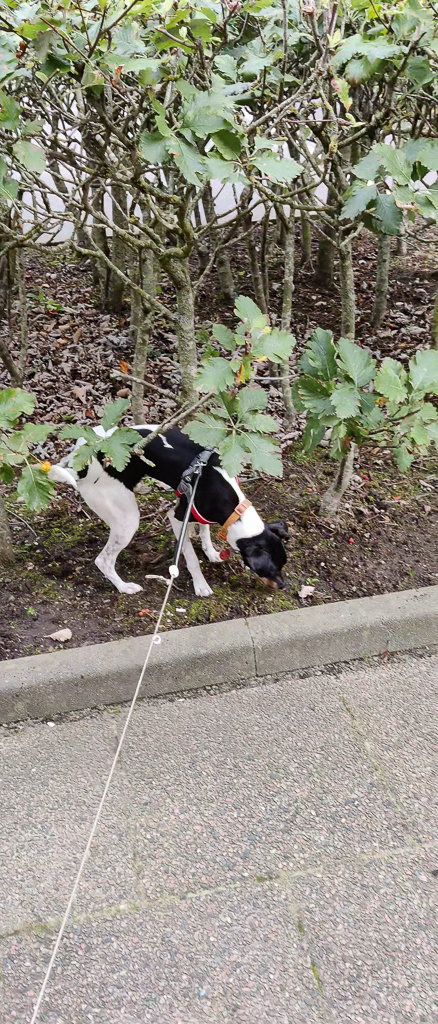Dog: (38, 415, 302, 607)
